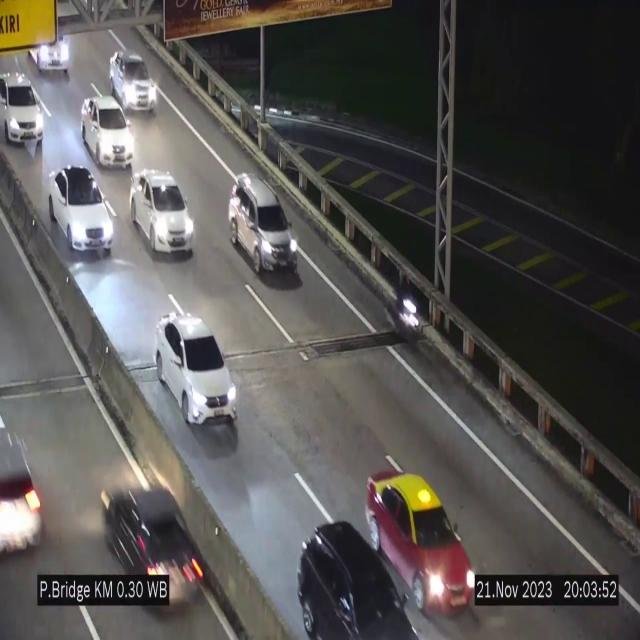Car: (282, 506, 422, 640), (94, 468, 206, 614), (367, 473, 475, 610), (0, 382, 54, 576), (155, 312, 237, 427), (228, 175, 298, 278), (130, 170, 195, 257), (51, 163, 113, 254), (81, 96, 134, 170), (0, 68, 46, 148), (109, 51, 157, 113), (29, 19, 71, 82)
Motorcycle: (386, 264, 421, 352)
